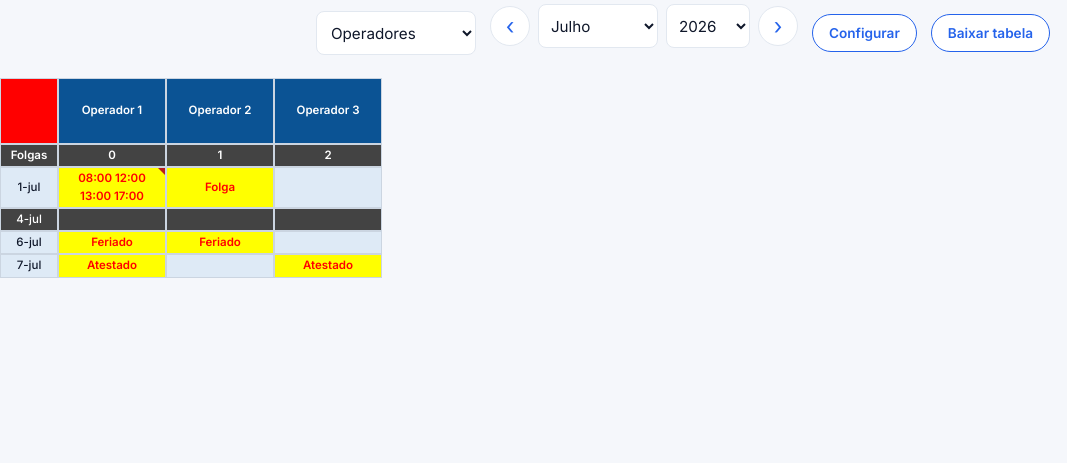
Test: GradeRetificacoesComponent › render — grade, popover e barra › clicar numa célula livre abre o popover ancorado, com a lista dos tipos individuais
Click the cell with class "cel" in the row of "1-jul".
click(328, 188)  # box [274,167,382,208]
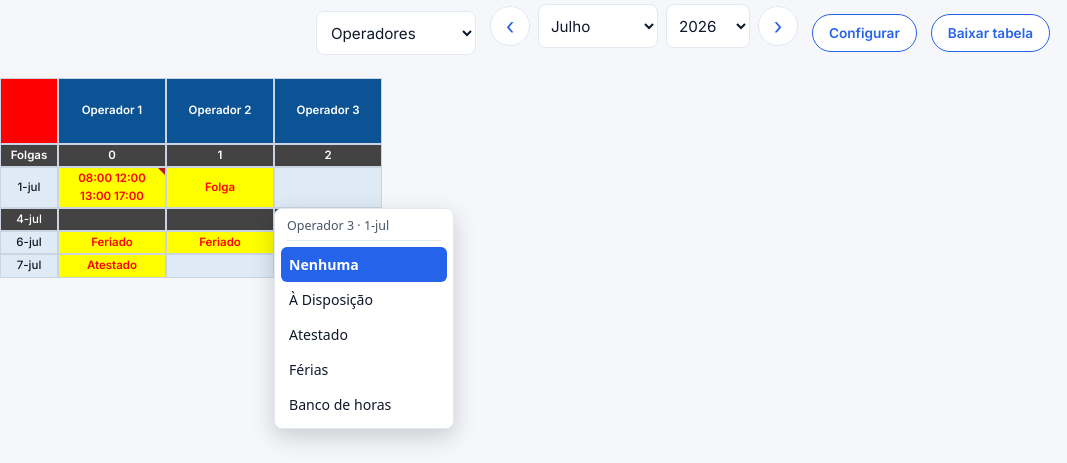
expect the element that starts with "Operador 3 · 1-jul" is shown: met, box [274,208,454,429]
